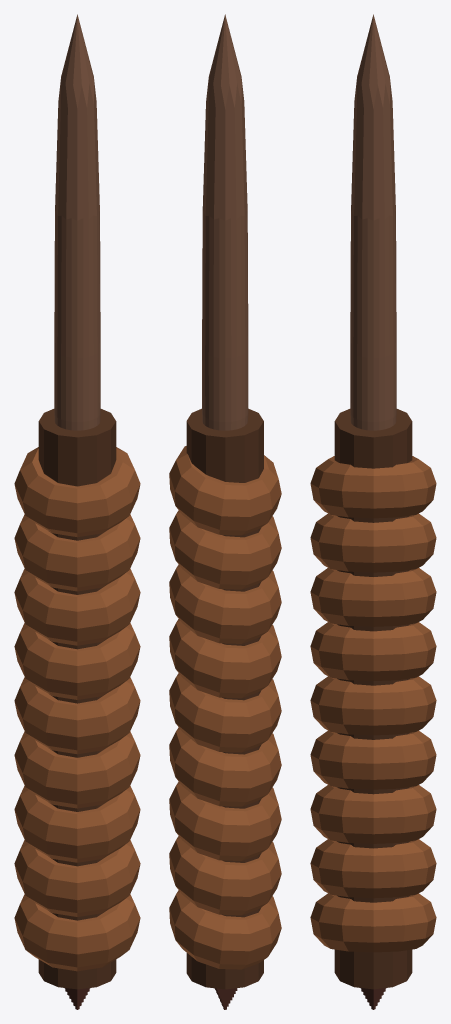
File: Wand 404.glb
The picture shows the model from 3 angles, left to right: view 1: azimuth 90°, elevation 25°; view 2: azimuth 150°, elevation 25°; view 3: azimuth 270°, elevation 25°; orthographic projection.
Parts seen in each view (by area): view 1: GeneratedWand; view 2: GeneratedWand; view 3: GeneratedWand.
Boxes of the visible parts, bbox=[...] form: GeneratedWand: bbox=[14, 14, 140, 1009]; GeneratedWand: bbox=[169, 14, 281, 1009]; GeneratedWand: bbox=[310, 14, 436, 1009].
Bounding box in the file's own units: 0.0497 × 0.506 × 0.0581.
